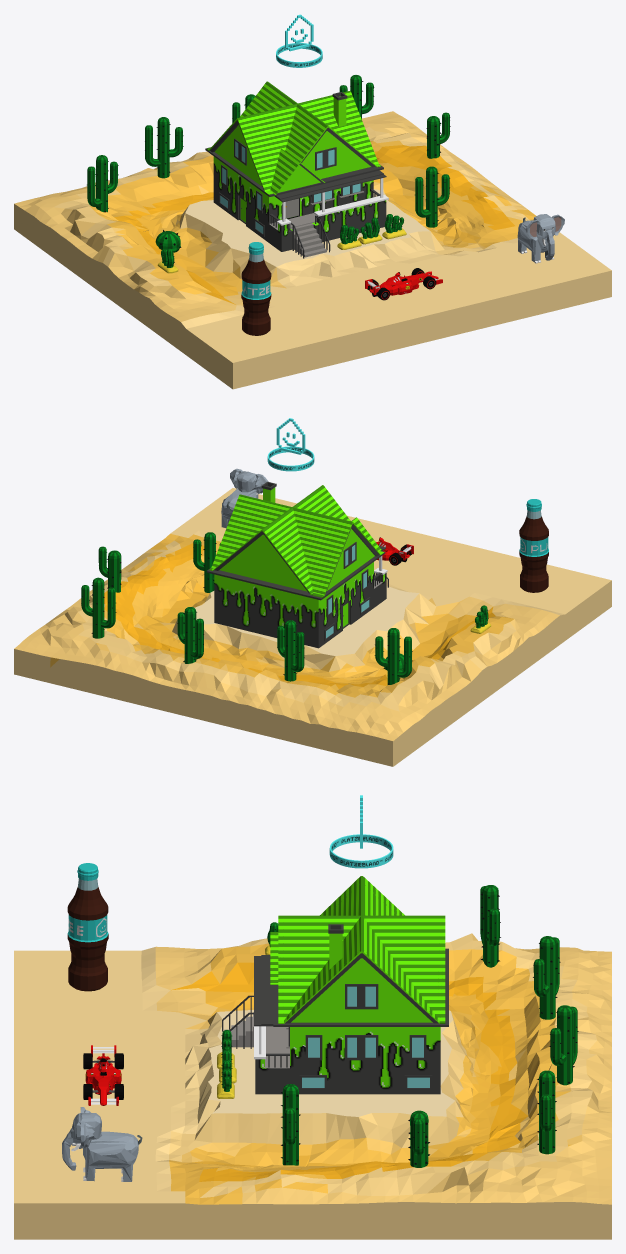
The picture shows the model from 3 angles, top to bottom: view 1: azimuth 30°, elevation 25°; view 2: azimuth 150°, elevation 25°; view 3: azimuth 270°, elevation 25°; orthographic projection. The views are drawn at different scales.
Parts seen in each view (by area): view 1: Cube.001, Cube.754, OBJRANDOM_PLATZEECOLA, ANIMAL_ELEFANTE, Cylinder.044, Cylinder.037, Cylinder.045, VEHICLES_FORMULA_1, TYPE_PREMIUM, Cylinder.038, Cylinder.042; view 2: Cube.001, Cube.754, OBJRANDOM_PLATZEECOLA, Cylinder.042, Cylinder.045, Cylinder.044, Cylinder.043, ANIMAL_ELEFANTE, TYPE_PREMIUM, Cylinder.037, Cylinder.038, VEHICLES_FORMULA_1; view 3: Cube.001, Cube.754, OBJRANDOM_PLATZEECOLA, ANIMAL_ELEFANTE, VEHICLES_FORMULA_1, Cylinder.044, Cylinder.043, Cylinder.045, Cylinder.042, Cylinder.037, TYPE_PREMIUM, Cylinder.038.
Boxes of the visible parts, x1=… form: Cube.001: x1=14, y1=111, x2=611, y2=389; Cube.754: x1=205, y1=81, x2=388, y2=258; OBJRANDOM_PLATZEECOLA: x1=241, y1=242, x2=271, y2=335; ANIMAL_ELEFANTE: x1=517, y1=214, x2=564, y2=263; Cylinder.044: x1=145, y1=117, x2=183, y2=178; Cylinder.037: x1=415, y1=166, x2=449, y2=227; Cylinder.045: x1=87, y1=155, x2=118, y2=212; VEHICLES_FORMULA_1: x1=365, y1=268, x2=442, y2=300; TYPE_PREMIUM: x1=276, y1=14, x2=322, y2=67; Cylinder.038: x1=426, y1=112, x2=450, y2=158; Cylinder.042: x1=339, y1=75, x2=374, y2=119; Cube.001: x1=14, y1=488, x2=611, y2=766; Cube.754: x1=206, y1=481, x2=388, y2=648; OBJRANDOM_PLATZEECOLA: x1=519, y1=499, x2=548, y2=592; Cylinder.042: x1=81, y1=577, x2=116, y2=638; Cylinder.045: x1=374, y1=628, x2=412, y2=684; Cylinder.044: x1=277, y1=620, x2=304, y2=681; Cylinder.043: x1=177, y1=607, x2=203, y2=663; ANIMAL_ELEFANTE: x1=221, y1=468, x2=268, y2=528; TYPE_PREMIUM: x1=267, y1=418, x2=314, y2=471; Cylinder.037: x1=193, y1=532, x2=220, y2=592; Cylinder.038: x1=98, y1=546, x2=121, y2=592; VEHICLES_FORMULA_1: x1=376, y1=537, x2=413, y2=565; Cube.001: x1=14, y1=933, x2=611, y2=1239; Cube.754: x1=222, y1=876, x2=448, y2=1094; OBJRANDOM_PLATZEECOLA: x1=67, y1=863, x2=108, y2=991; ANIMAL_ELEFANTE: x1=62, y1=1107, x2=142, y2=1181; VEHICLES_FORMULA_1: x1=83, y1=1045, x2=123, y2=1105; Cylinder.044: x1=533, y1=936, x2=560, y2=1019; Cylinder.043: x1=549, y1=1005, x2=578, y2=1085; Cylinder.045: x1=480, y1=885, x2=500, y2=967; Cylinder.042: x1=537, y1=1070, x2=556, y2=1154; Cylinder.037: x1=281, y1=1084, x2=300, y2=1165; TYPE_PREMIUM: x1=329, y1=795, x2=393, y2=868; Cylinder.038: x1=408, y1=1110, x2=429, y2=1167.
Bounding box in the file's own units: 4002 × 2437 × 4001.
40 materials, 4 textured.
